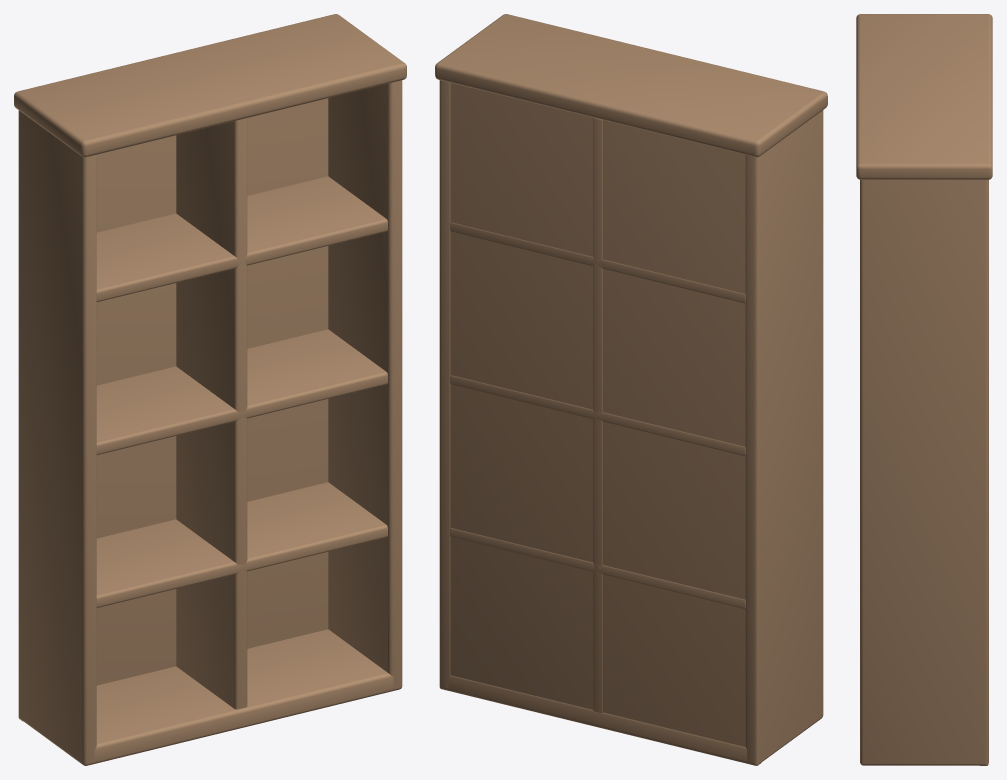
The model's file is SM_Bookcase.fbx.
3 renders of one model, left to right at view 1: azimuth 30°, elevation 25°; view 2: azimuth 150°, elevation 25°; view 3: azimuth 270°, elevation 25°, orthographic. The views are drawn at different scales.
Visible parts, largest first — view 1: SM_Bookcase; view 2: SM_Bookcase; view 3: SM_Bookcase.
Boxes of the visible parts, x1,y1,x2,y2 form: SM_Bookcase: (14, 14, 406, 765); SM_Bookcase: (435, 14, 827, 765); SM_Bookcase: (856, 14, 992, 765).
Bounding box in the file's own units: 98 × 180 × 37.
